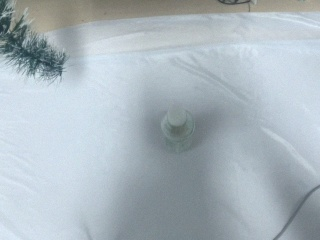bottle: (160, 105, 197, 154)
